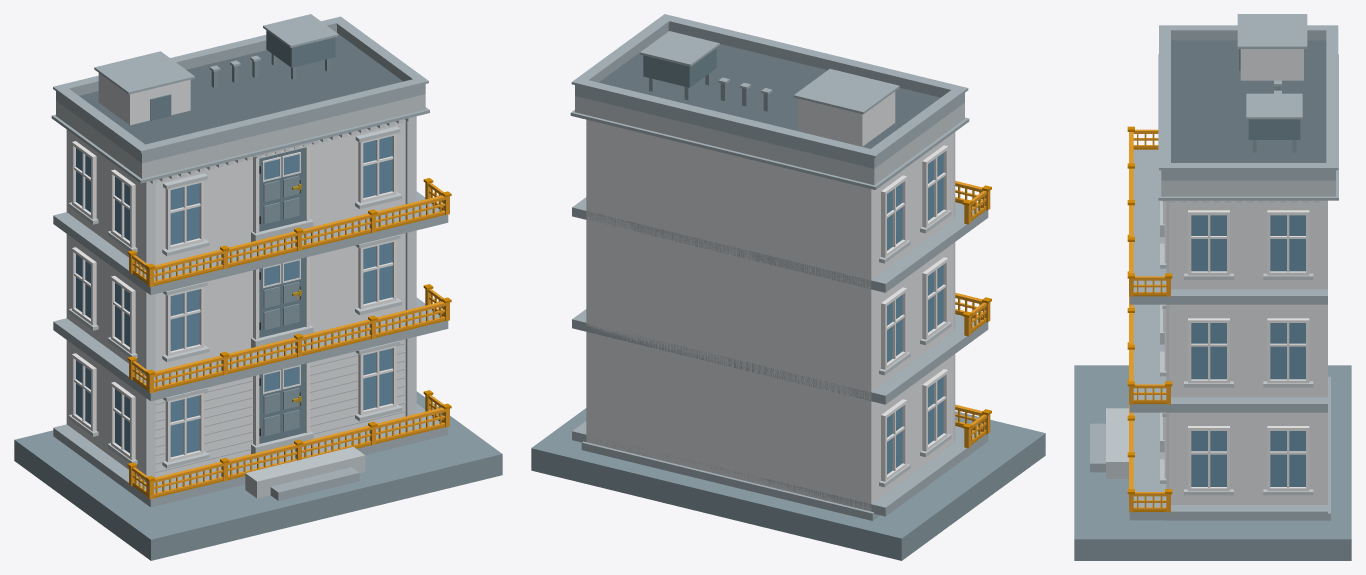
Rendered from building_3d.obj.
3 views of the same model, side by side, from view 1: azimuth 30°, elevation 25°; view 2: azimuth 150°, elevation 25°; view 3: azimuth 270°, elevation 25° (orthographic). The views are drawn at different scales.
Visible parts, largest first — view 1: base, f3_wall, f2_wall, f1_wall, roof_tar, f2_slab, f3_slab, roof, f1_slab, roof_pF, step2, roof_stairhead_top (+41 smaller); view 2: f2_wall, f3_wall, f1_wall, base, roof_tar, roof, f3_slab, f2_slab, f1_slab, roof_pB, roof_stairhead, plinth (+16 smaller); view 3: base, roof_tar, f2_wall, f1_wall, f3_wall, f3_slab, f2_slab, f1_slab, roof, roof_stairhead_top, roof_stairhead, roof_copB (+20 smaller).
Boxes of the visible parts, bbox=[...] form: base: bbox=[14, 391, 502, 560]; f3_wall: bbox=[66, 119, 405, 267]; f2_wall: bbox=[66, 233, 405, 373]; f1_wall: bbox=[66, 339, 405, 479]; roof_tar: bbox=[79, 34, 402, 144]; f2_slab: bbox=[53, 297, 448, 401]; f3_slab: bbox=[53, 191, 448, 294]; roof: bbox=[56, 94, 425, 178]; f1_slab: bbox=[53, 404, 448, 507]; roof_pF: bbox=[138, 84, 425, 163]; step2: bbox=[245, 446, 365, 498]; roof_stairhead_top: bbox=[94, 51, 194, 94]; f2_wall: bbox=[586, 226, 953, 407]; f3_wall: bbox=[586, 119, 953, 295]; f1_wall: bbox=[586, 338, 953, 511]; base: bbox=[531, 408, 1045, 560]; roof_tar: bbox=[599, 32, 940, 148]; roof: bbox=[575, 96, 964, 185]; f3_slab: bbox=[572, 197, 988, 292]; f2_slab: bbox=[572, 309, 988, 404]; f1_slab: bbox=[572, 421, 988, 516]; roof_pB: bbox=[575, 85, 878, 168]; roof_stairhead: bbox=[798, 91, 895, 146]; plinth: bbox=[581, 441, 879, 520]; base: bbox=[1074, 365, 1351, 560]; roof_tar: bbox=[1171, 40, 1326, 162]; f2_wall: bbox=[1169, 304, 1327, 397]; f1_wall: bbox=[1169, 412, 1327, 504]; f3_wall: bbox=[1169, 200, 1327, 289]; f3_slab: bbox=[1129, 149, 1327, 304]; f2_slab: bbox=[1129, 304, 1327, 412]; f1_slab: bbox=[1129, 412, 1327, 520]; roof: bbox=[1161, 180, 1335, 196]; roof_stairhead_top: bbox=[1237, 14, 1307, 48]; roof_stairhead: bbox=[1240, 49, 1303, 80]; roof_copB: bbox=[1326, 25, 1338, 170].
Bounding box in the file's own units: 5.2 × 5.63 × 3.5.
